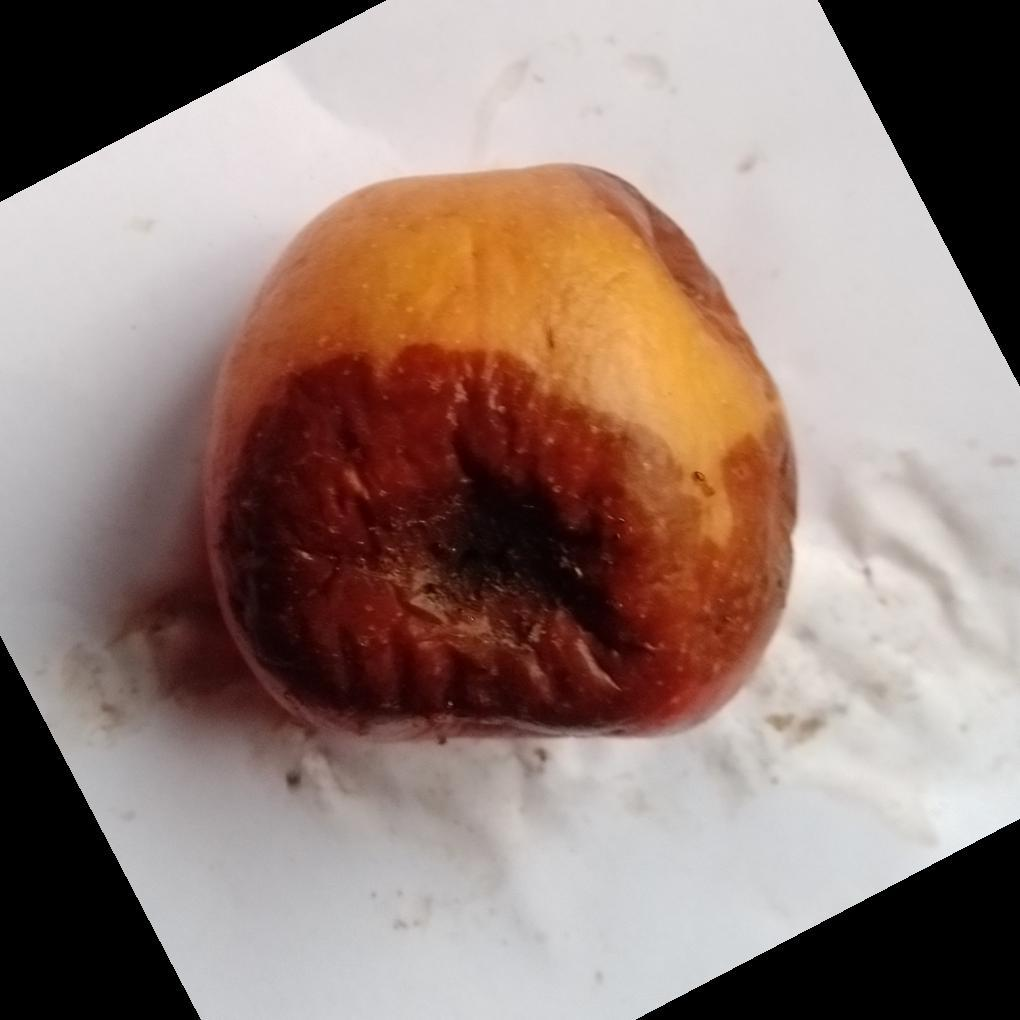FreshOrange: (199, 162, 800, 749)
